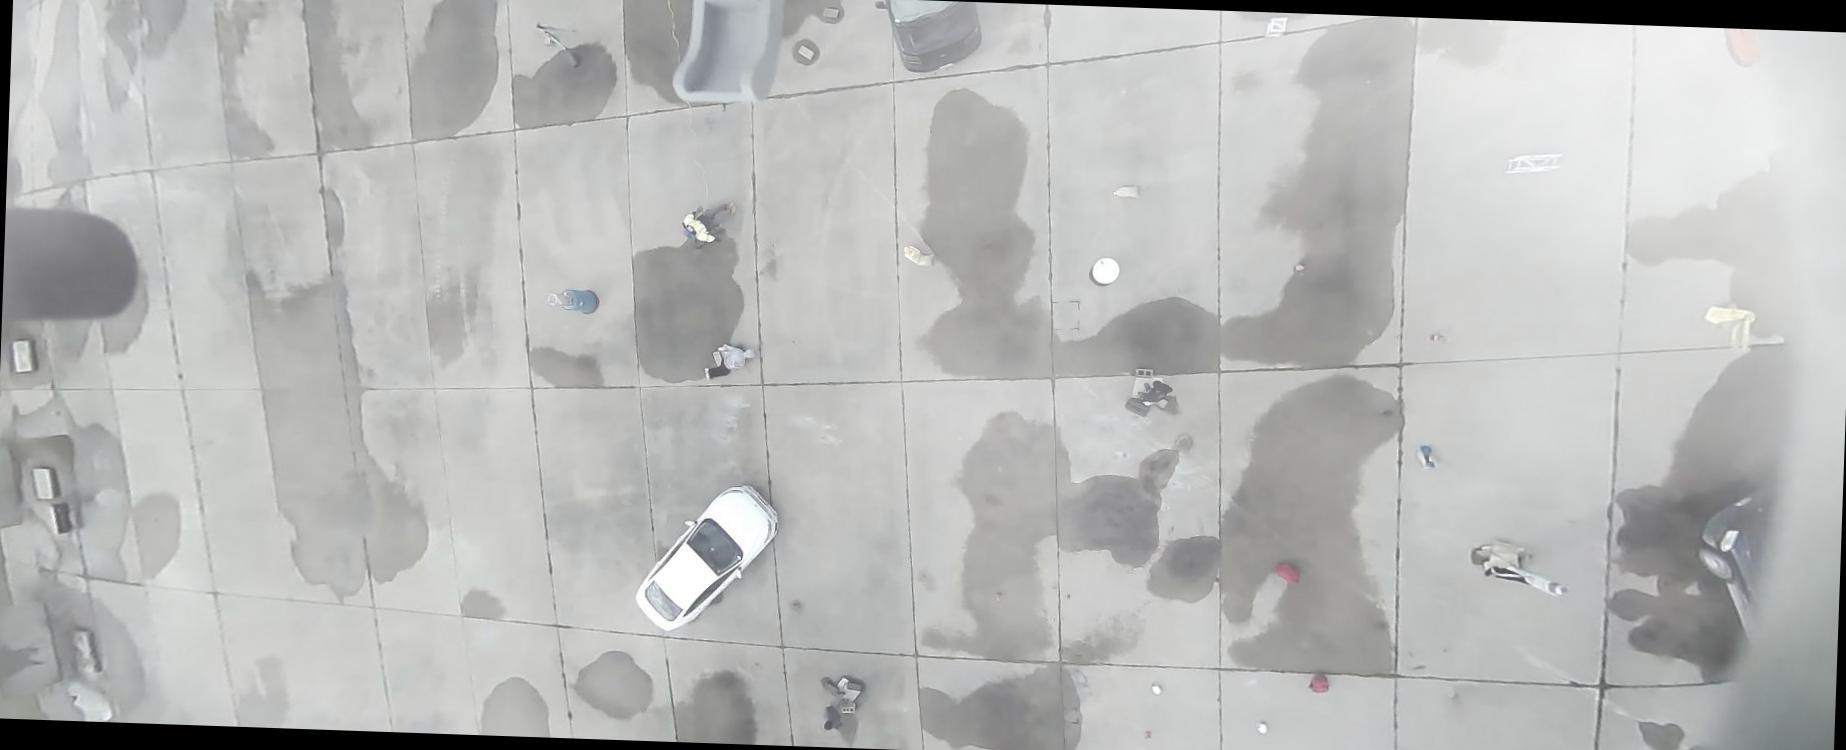vehicle: (633, 480, 781, 636), (1695, 484, 1785, 649), (874, 0, 985, 75)
